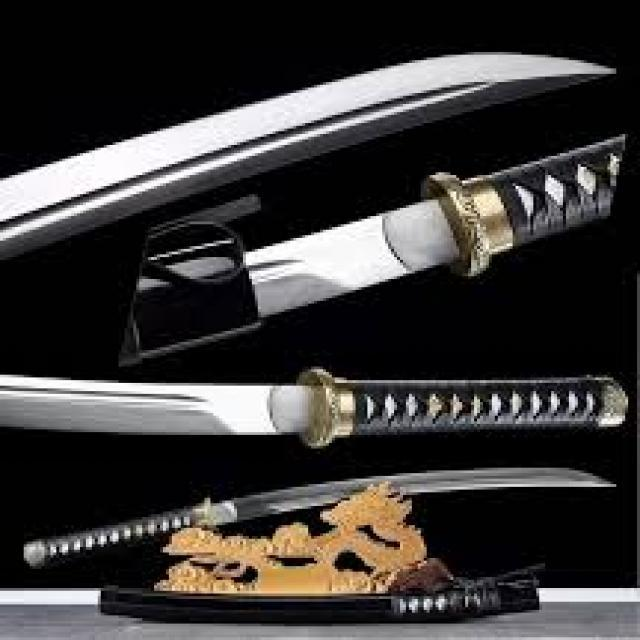long sword: (18, 464, 620, 564), (10, 46, 629, 138), (9, 372, 632, 442), (255, 175, 640, 272)
